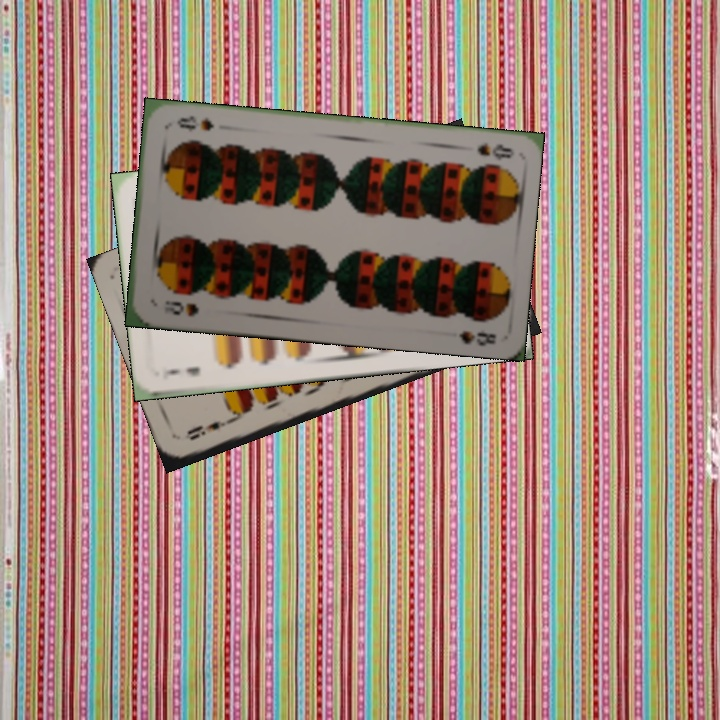E7: (158, 362, 203, 382)
E9: (180, 414, 237, 443)
S8: (473, 138, 516, 163), (160, 297, 202, 319)
